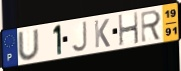1: (51, 23, 64, 58)
H: (117, 11, 140, 48)
J: (70, 20, 88, 53)
K: (93, 18, 111, 50)
R: (140, 8, 163, 44)
U: (17, 27, 41, 61)
